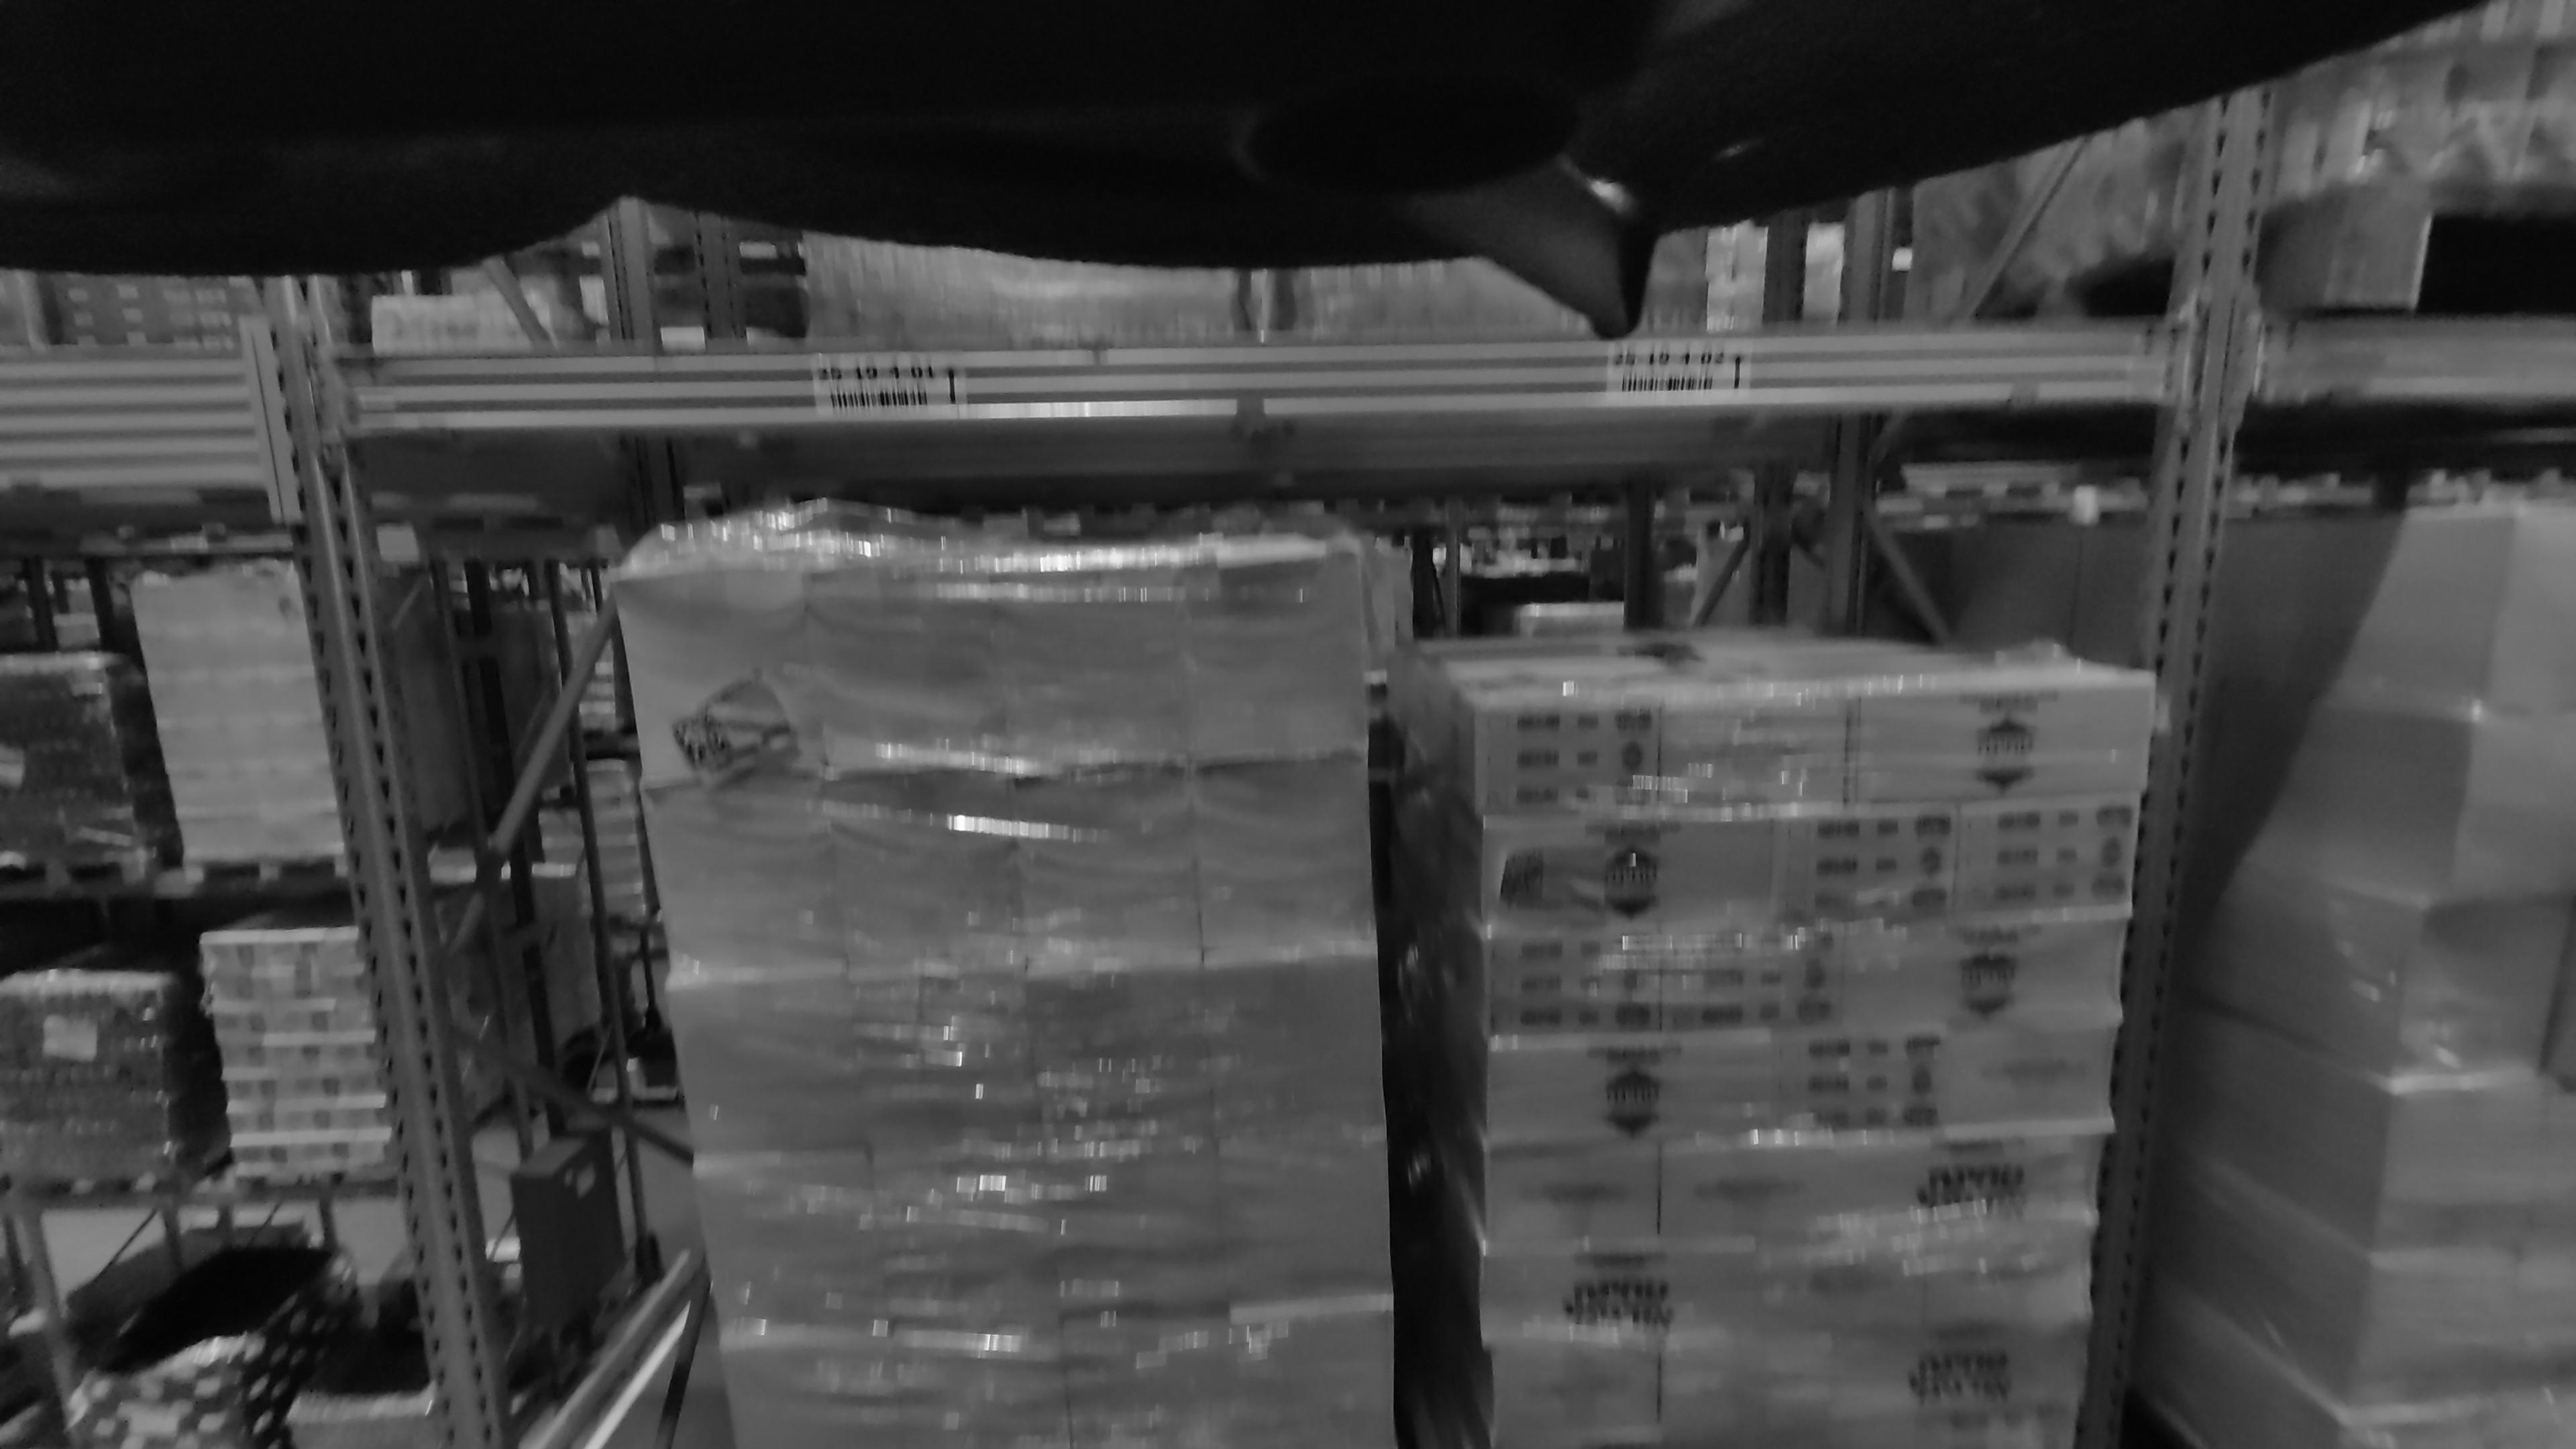empty-shelf: (1265, 163, 2150, 336), (345, 196, 1212, 350)
